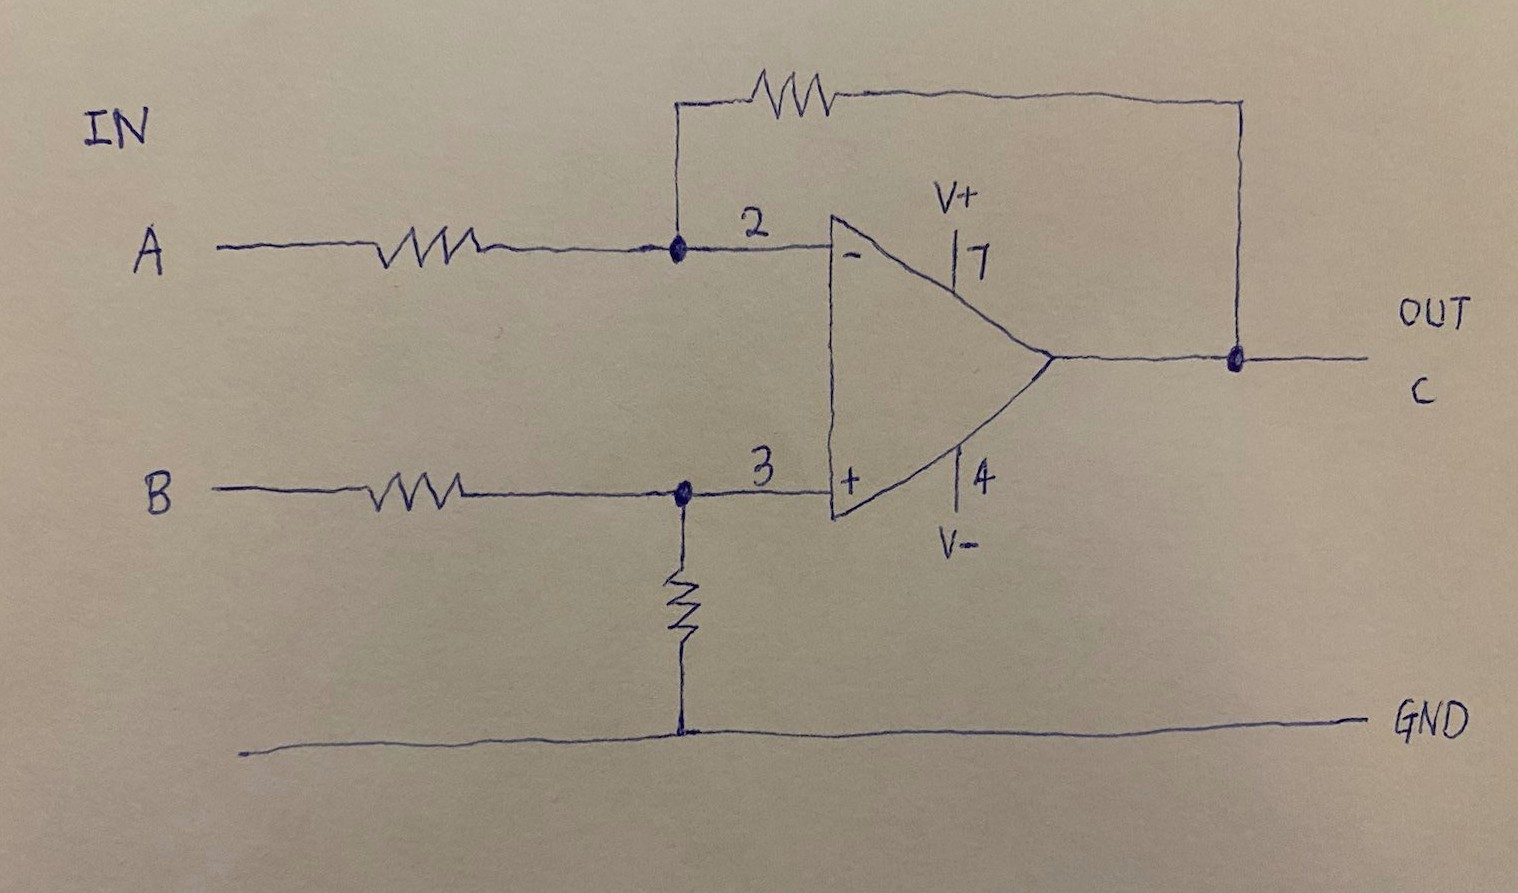junction: (1211, 332, 1268, 388), (655, 466, 710, 522), (655, 705, 711, 755), (656, 220, 705, 275), (1218, 82, 1254, 125), (661, 87, 697, 122)
operational_amplifier: (802, 205, 1067, 550)
resistor: (354, 221, 496, 279), (351, 468, 488, 519), (741, 64, 849, 123), (652, 559, 716, 651)
terminal: (216, 730, 291, 772), (201, 473, 265, 505), (1329, 341, 1388, 374), (1335, 701, 1385, 734), (204, 234, 259, 263)
text: (1389, 689, 1474, 753), (78, 100, 156, 158), (1397, 288, 1475, 336), (125, 220, 173, 289), (135, 464, 186, 520), (1400, 367, 1446, 415), (933, 522, 983, 566), (932, 173, 980, 216), (732, 196, 773, 242), (965, 235, 1000, 287), (744, 438, 778, 489), (968, 454, 1001, 498), (837, 459, 863, 496), (837, 241, 866, 266)
